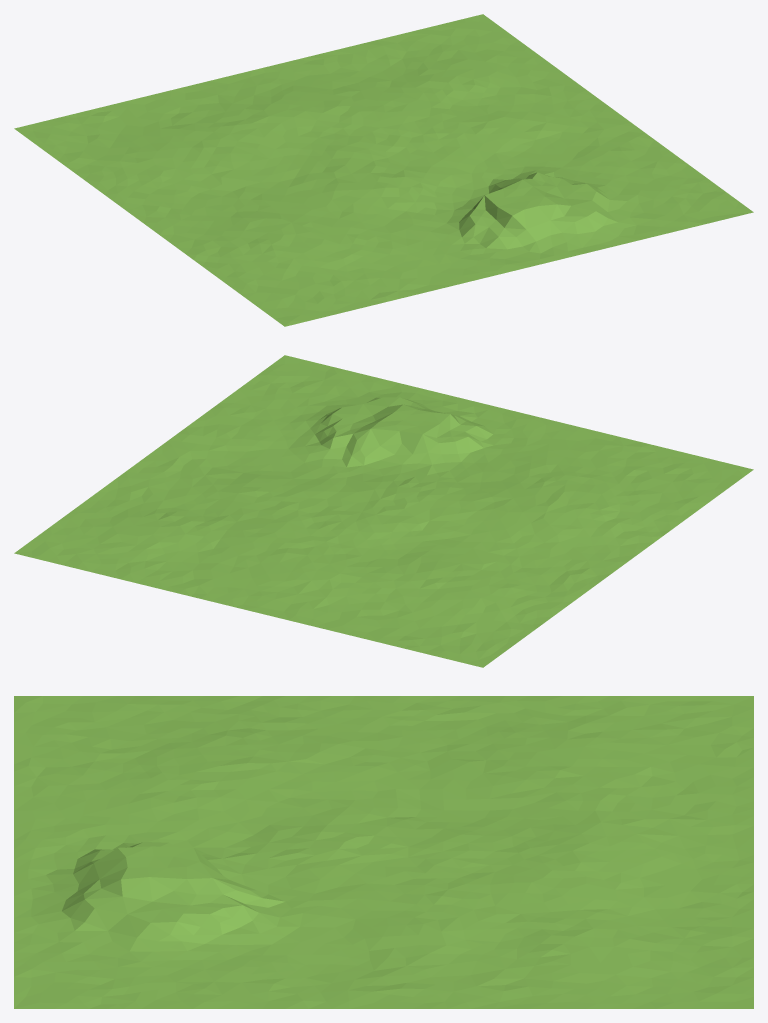
Rendered from MT_Terrain_L_c_12.fbx.
3 renders of one model, top to bottom at view 1: azimuth 30°, elevation 25°; view 2: azimuth 150°, elevation 25°; view 3: azimuth 270°, elevation 25°, orthographic. The views are drawn at different scales.
Visible parts, largest first — view 1: MT_Terrain_L_c_12; view 2: MT_Terrain_L_c_12; view 3: MT_Terrain_L_c_12.
Boxes of the visible parts, x1=… form: MT_Terrain_L_c_12: x1=14, y1=14, x2=753, y2=326; MT_Terrain_L_c_12: x1=14, y1=355, x2=753, y2=667; MT_Terrain_L_c_12: x1=14, y1=696, x2=753, y2=1008.
Size of the model in its own units: 10000 by 421 by 10000.
